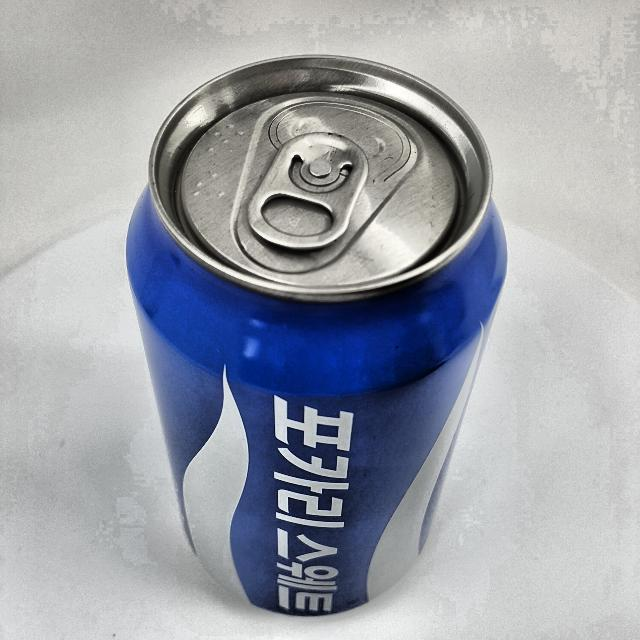pocarisweat: (126, 56, 506, 615)
